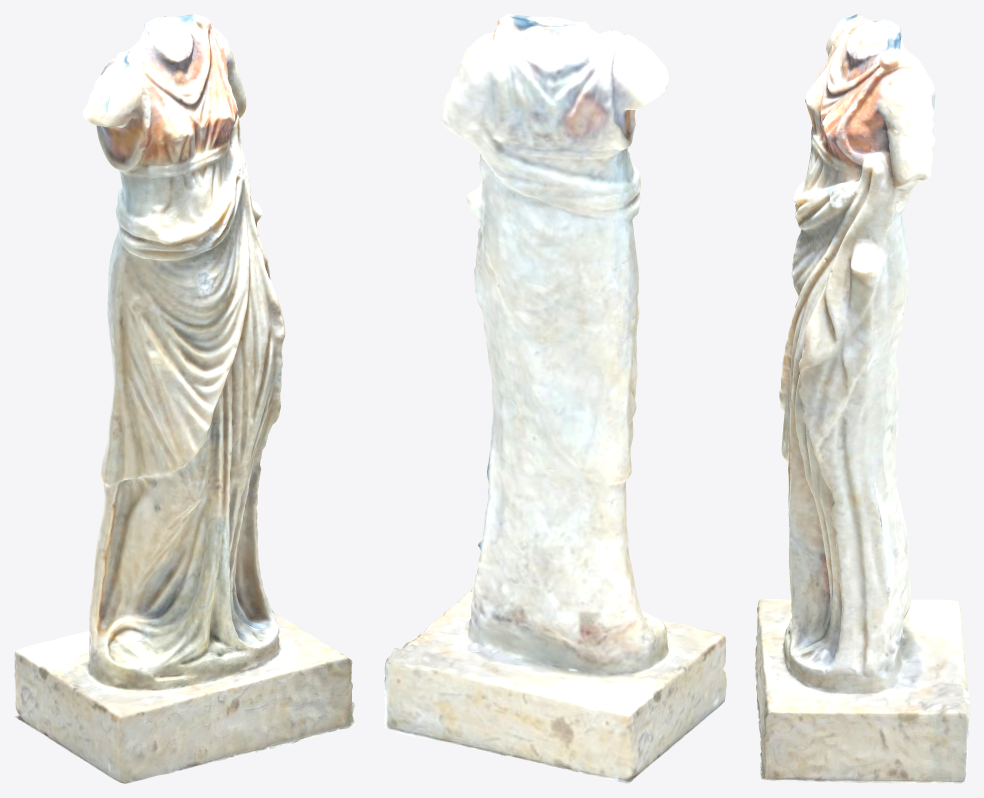
3 renders of one model, left to right at view 1: azimuth 30°, elevation 25°; view 2: azimuth 150°, elevation 25°; view 3: azimuth 270°, elevation 25°, orthographic. The views are drawn at different scales.
Parts seen in each view (by area): view 1: Stereo textured mesh; view 2: Stereo textured mesh; view 3: Stereo textured mesh.
Part boxes in pixels (<box>): Stereo textured mesh: <box>14,14,354,783</box>; Stereo textured mesh: <box>383,14,726,783</box>; Stereo textured mesh: <box>755,14,969,783</box>.
Bounding box in the file's own units: 0.6241 × 1.69 × 0.4716.
1 material, 1 textured.
